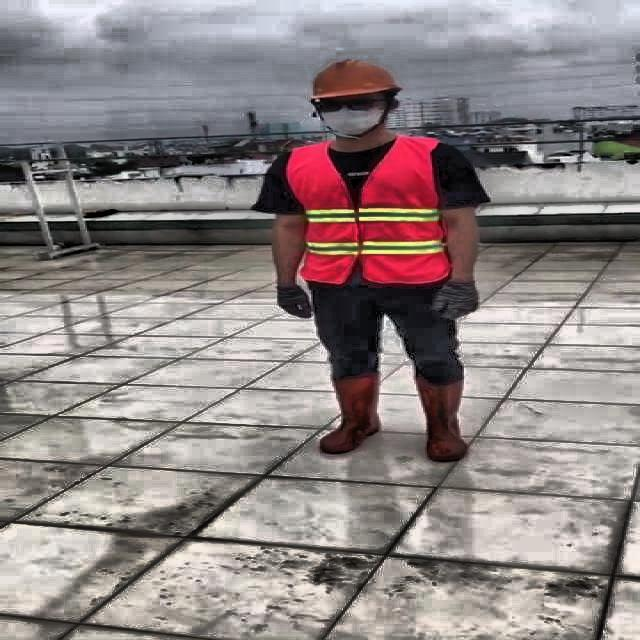safety_helmet: (302, 57, 402, 101)
safety_jacket: (288, 141, 453, 286)
